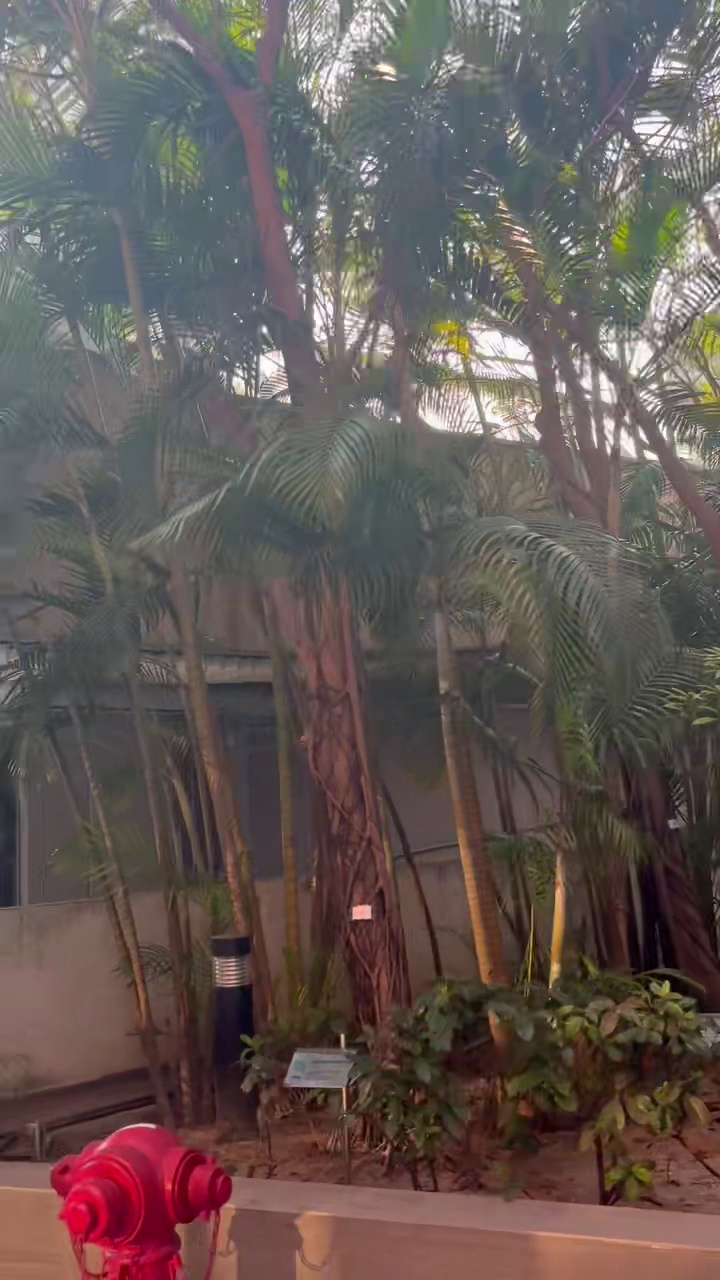Ficus benjamina: (158, 0, 408, 1024)
